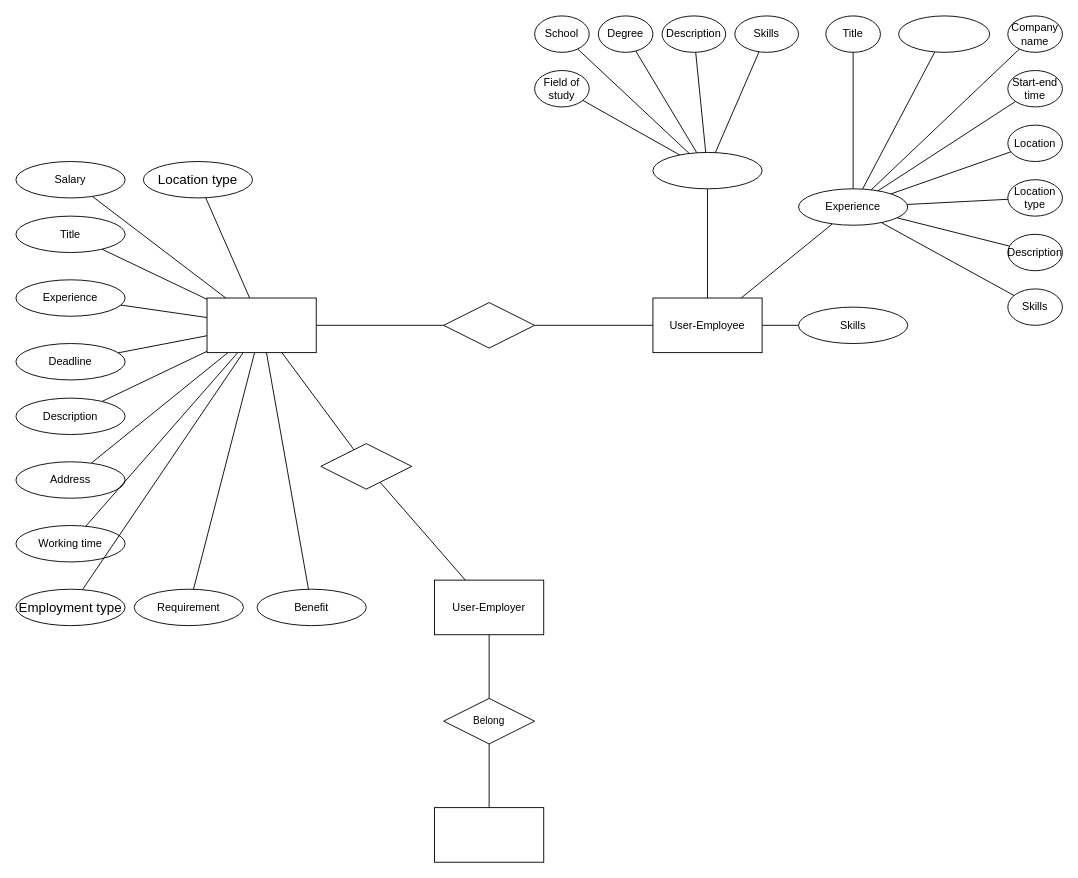
This 1078x878 diagram has some shape labels left out. The centre of each missing label's shape, as x and y in pixels:
"Apply" belongs at [489,325].
"Company" belongs at [489,834].
"Create" belongs at [366,466].
"Education" belongs at [707,170].
"Employement type" belongs at [944,33].
"Job" belongs at [261,325].
